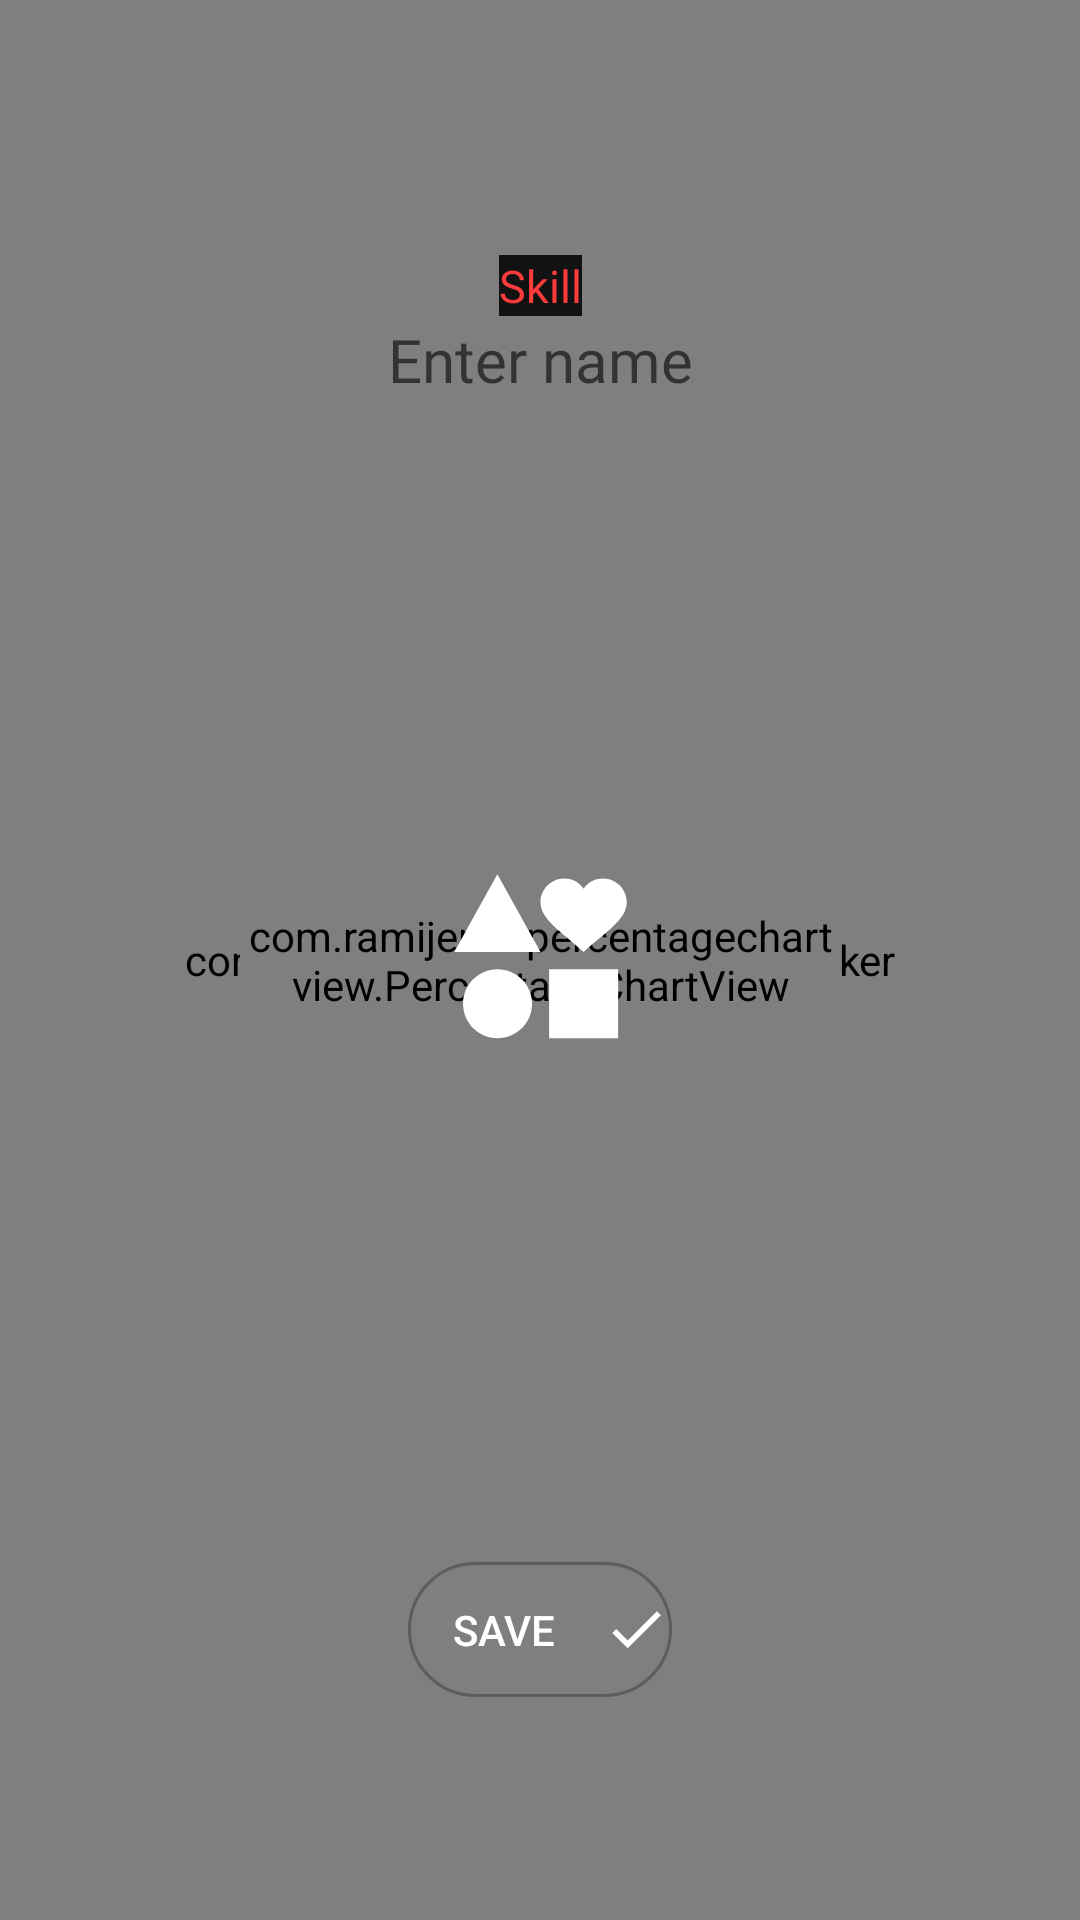

Screen size 1080 x 1920. Icon name, then its center in pixels as point (x, y):
etc: point (539, 956)
